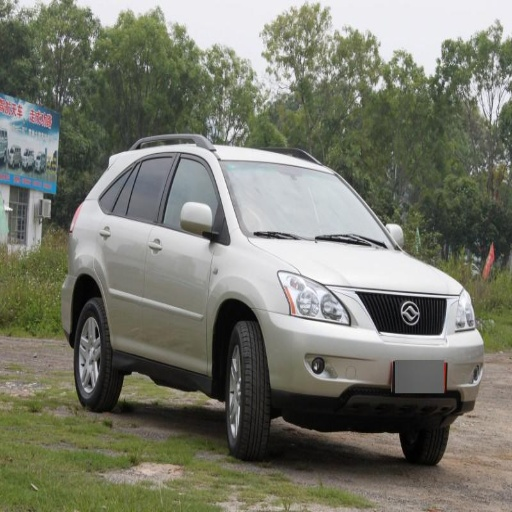back_left_light: (99, 150, 176, 350)
back_right_light: (262, 286, 481, 405)
front_bumper: (222, 161, 389, 247)
front_left_door: (446, 292, 477, 331)
front_left_light: (148, 150, 224, 369)
front_right_door: (278, 269, 355, 325)
front_right_light: (254, 238, 461, 292)
trunk: (225, 320, 273, 459), (74, 298, 120, 411), (400, 423, 446, 464)
